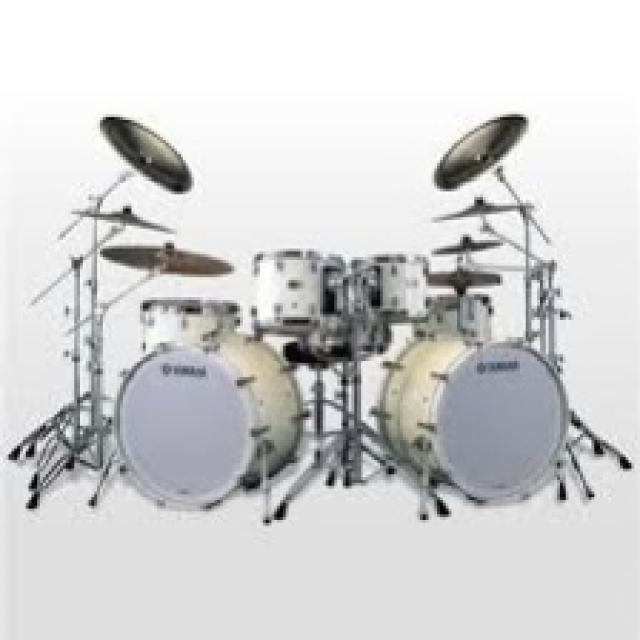drums: (4, 108, 640, 532)
